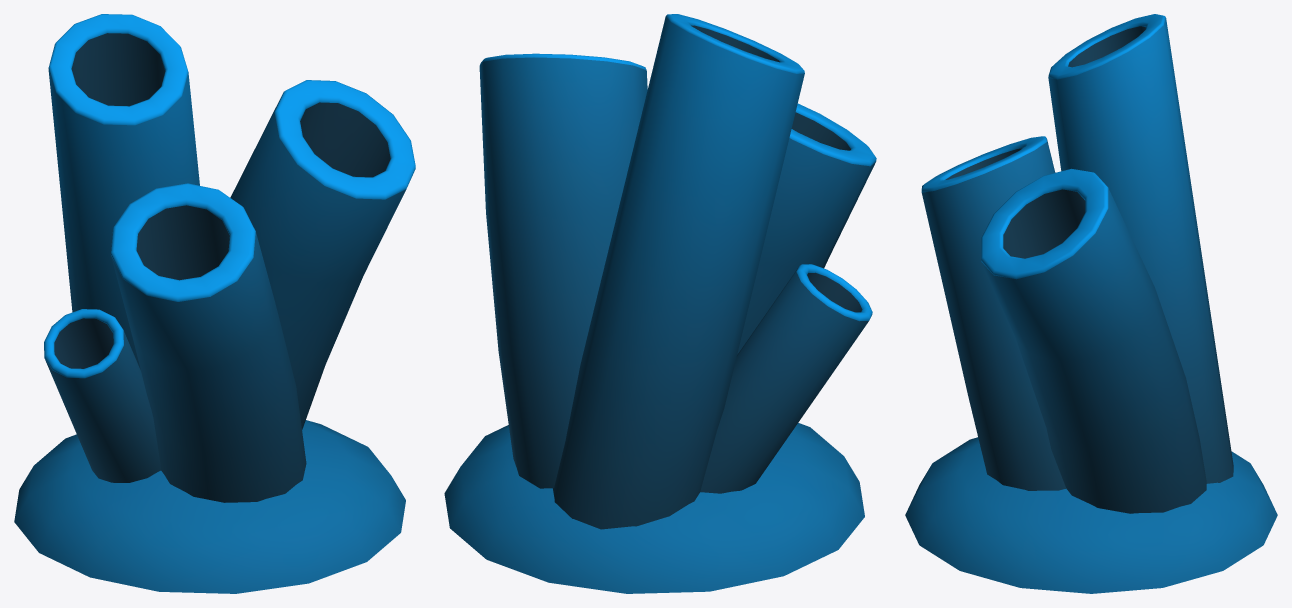
File: M_Moss_4.fbx
The picture shows the model from 3 angles, left to right: view 1: azimuth 30°, elevation 25°; view 2: azimuth 150°, elevation 25°; view 3: azimuth 270°, elevation 25°; orthographic projection. The views are drawn at different scales.
Parts seen in each view (by area): view 1: M_moss; view 2: M_moss; view 3: M_moss.
Part boxes in pixels (x1,y1,x2,y2): M_moss: [14, 14, 415, 593]; M_moss: [444, 14, 876, 593]; M_moss: [905, 14, 1277, 593].
Size of the model in its own units: 355 by 466 by 343.
